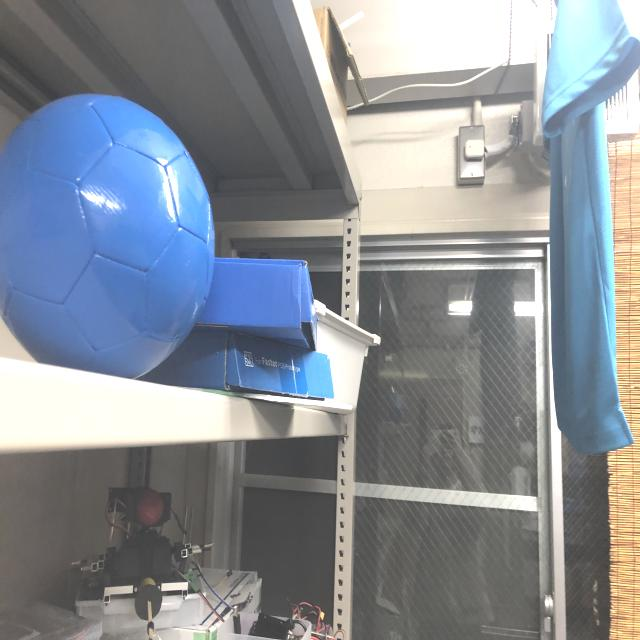blue_ball: (0, 90, 221, 380)
